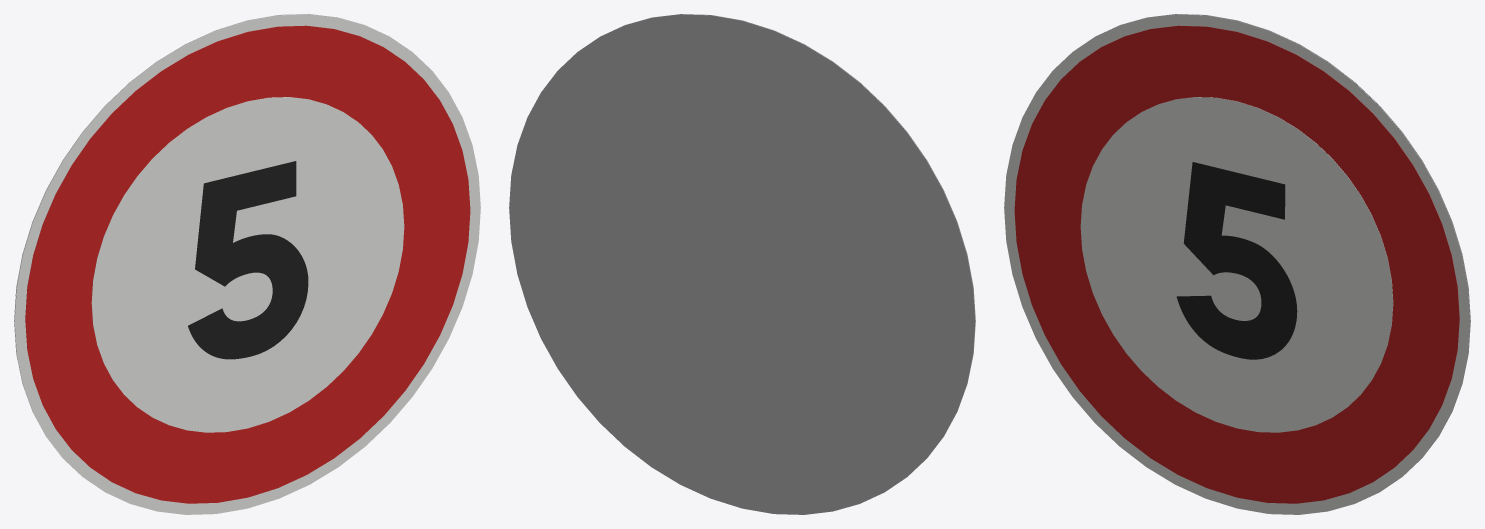
The picture shows the model from 3 angles, left to right: view 1: azimuth 30°, elevation 25°; view 2: azimuth 150°, elevation 25°; view 3: azimuth 330°, elevation 25°; orthographic projection.
Parts seen in each view (by area): view 1: B14-5_p01, B14-5_p02, B14-5_p00, B14-5_p03, B14-5_dos; view 2: B14-5_dos, B14-5_p00; view 3: B14-5_p01, B14-5_p02, B14-5_p00, B14-5_p03, B14-5_dos.
Boxes of the visible parts, x1,y1,x2,y2 form: B14-5_p01: [25, 25, 470, 503]; B14-5_p02: [91, 97, 404, 432]; B14-5_p00: [14, 14, 480, 514]; B14-5_p03: [188, 161, 308, 359]; B14-5_dos: [14, 14, 385, 473]; B14-5_dos: [509, 14, 975, 514]; B14-5_p00: [604, 14, 975, 473]; B14-5_p01: [1014, 25, 1459, 503]; B14-5_p02: [1080, 97, 1393, 432]; B14-5_p00: [1004, 14, 1470, 514]; B14-5_p03: [1176, 162, 1297, 359]; B14-5_dos: [1099, 14, 1470, 473].
Size of the model in its own units: 0.85 by 0.8498 by 0.0031.
